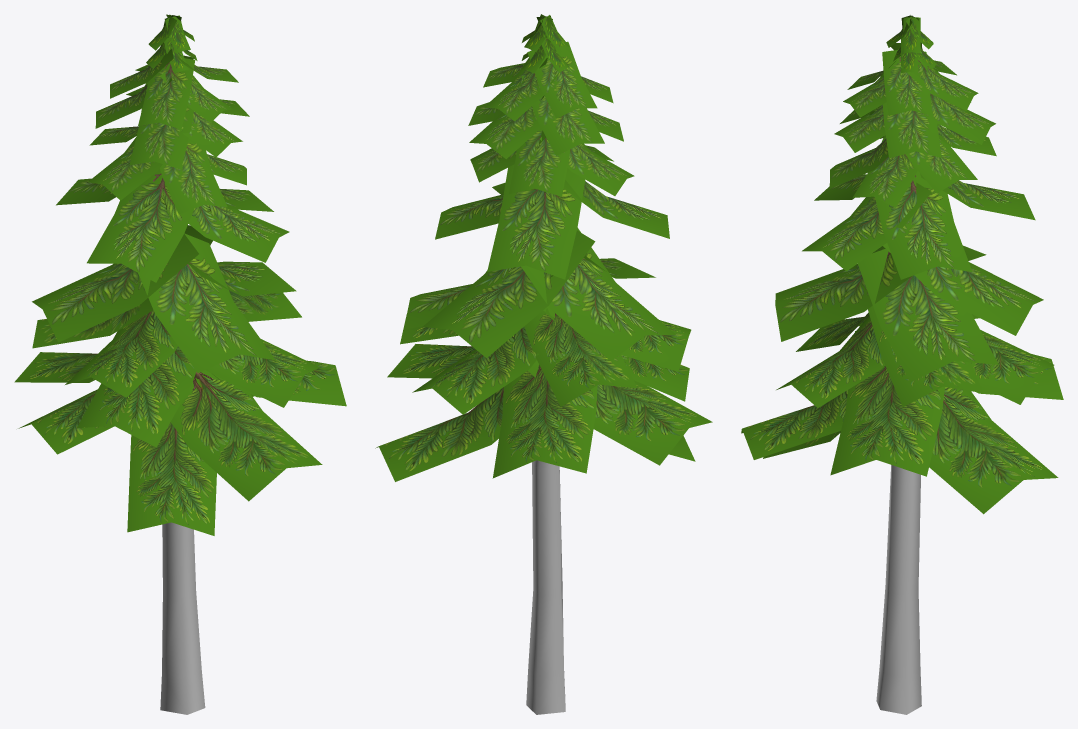
Rendered from pine_tree_02.FBX.
3 renders of one model, left to right at view 1: azimuth 30°, elevation 25°; view 2: azimuth 150°, elevation 25°; view 3: azimuth 270°, elevation 25°, orthographic.
Visible parts, largest first — view 1: pine tree; view 2: pine tree; view 3: pine tree.
Part boxes in pixels (x1=…): pine tree: x1=14, y1=14, x2=346, y2=714; pine tree: x1=375, y1=14, x2=712, y2=714; pine tree: x1=741, y1=15, x2=1063, y2=714.
Size of the model in its own units: 19.93 by 45.17 by 19.18.
